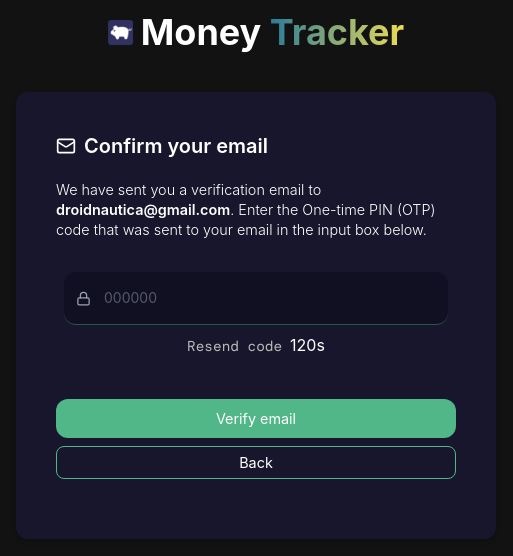
Scenario: Verify email page › Verify if the OTP input is less than 6-digits
The width and height of the screenshot is (513, 556).
Type "321" into the field with placeholder "000000" at (256, 298), box [64, 272, 448, 325]
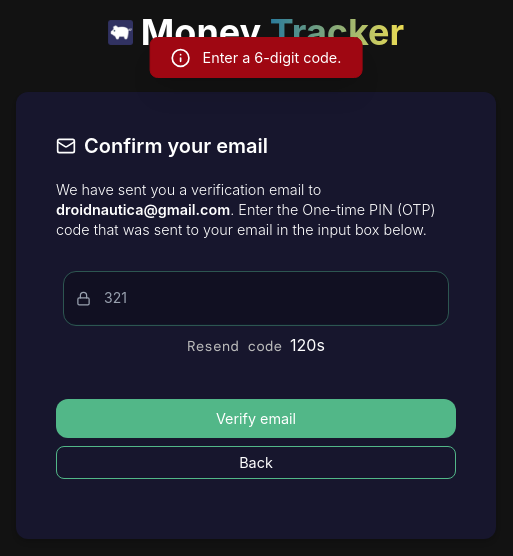
Expected: the text "Enter a 6-digit code." is shown, [203, 46, 341, 69]
